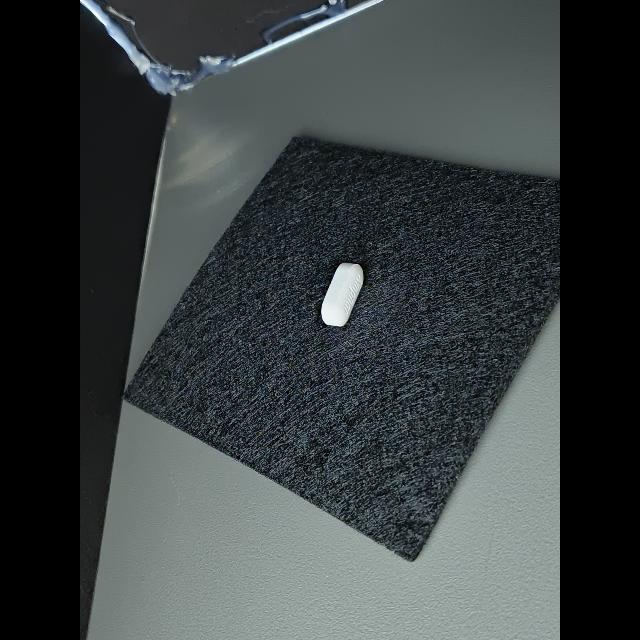Intact Pill: (321, 263, 364, 326)
